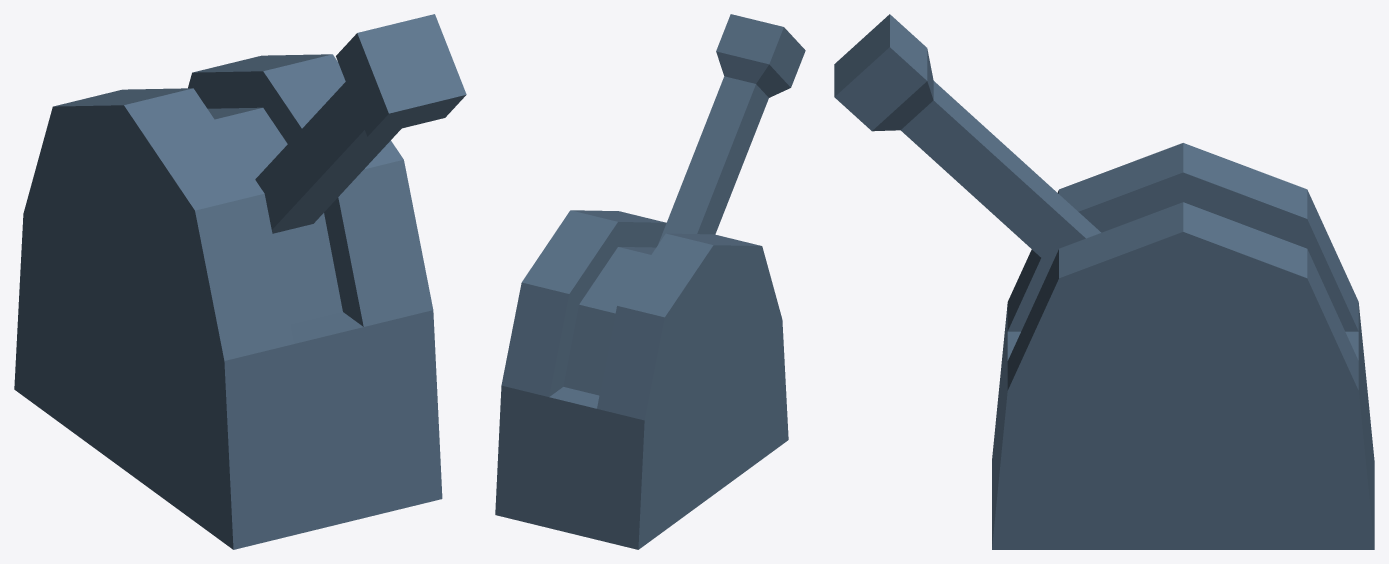
The model's file is Lever.FBX.
3 views of the same model, side by side, from view 1: azimuth 30°, elevation 25°; view 2: azimuth 150°, elevation 25°; view 3: azimuth 270°, elevation 25° (orthographic). The views are drawn at different scales.
Parts seen in each view (by area): view 1: Cylinder001, Box001; view 2: Cylinder001, Box001; view 3: Cylinder001, Box001.
Part boxes in pixels (x1,y1,x2,y2): Cylinder001: (14, 54, 442, 549); Box001: (255, 14, 466, 233); Cylinder001: (495, 210, 788, 549); Box001: (658, 14, 805, 244); Cylinder001: (992, 143, 1374, 549); Box001: (834, 14, 1101, 266).
Size of the model in its own units: 11.81 by 29.38 by 30.29.
